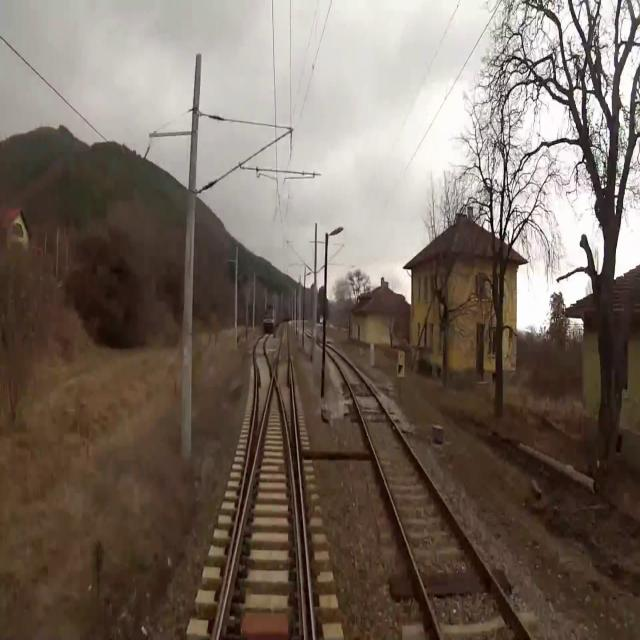rail-track: (330, 350, 527, 639), (220, 380, 302, 639), (275, 322, 303, 552), (241, 333, 271, 510)
